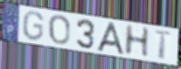3: (75, 18, 96, 50)
A: (95, 22, 126, 57)
G: (22, 10, 45, 42)
H: (123, 24, 151, 59)
O: (48, 14, 71, 46)
T: (153, 29, 174, 62)
